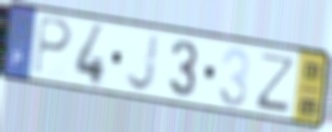3: (166, 39, 202, 100), (219, 46, 251, 108)
4: (73, 22, 108, 87)
J: (124, 31, 161, 94)
P: (32, 14, 74, 78)
Z: (253, 51, 298, 115)
